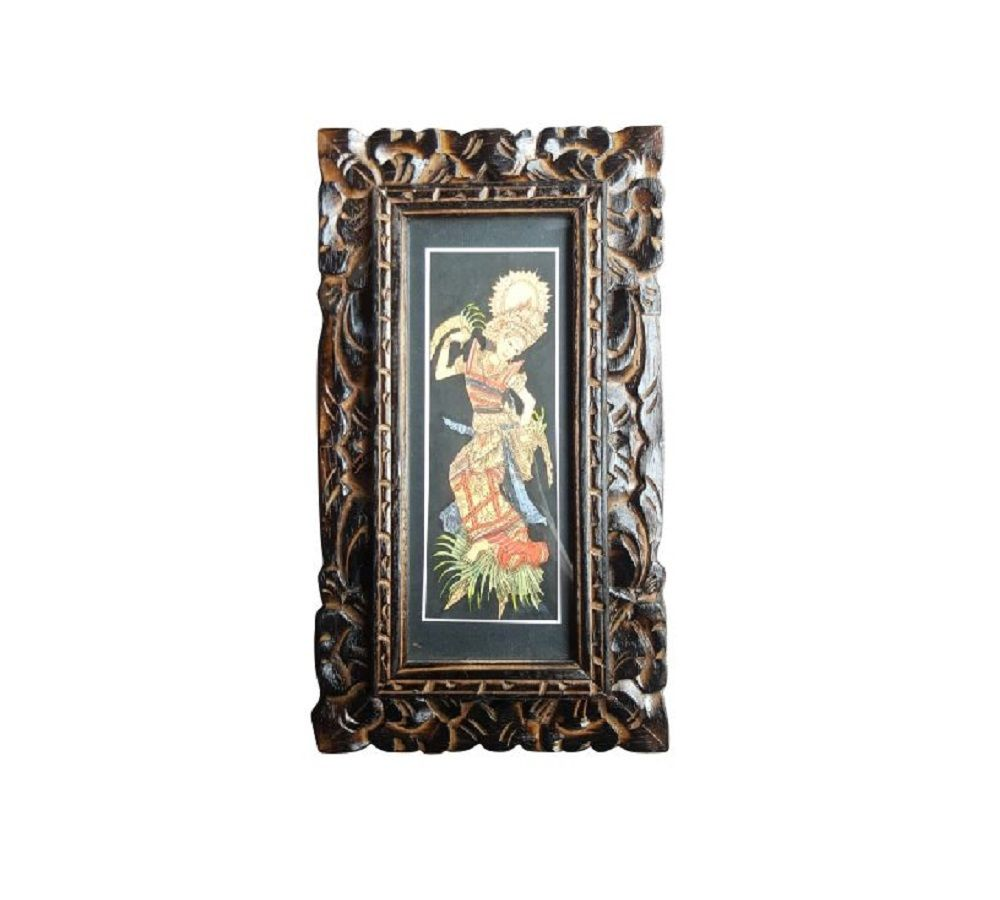lukisan: (316, 125, 672, 755)
